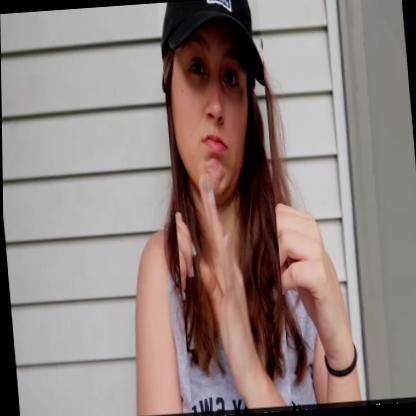Talk: (157, 0, 291, 416)
